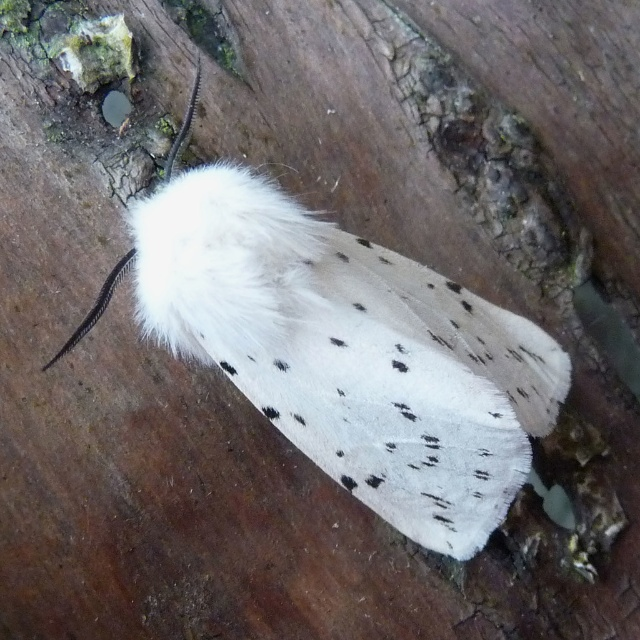Moths and butterflies: (38, 43, 576, 567)
